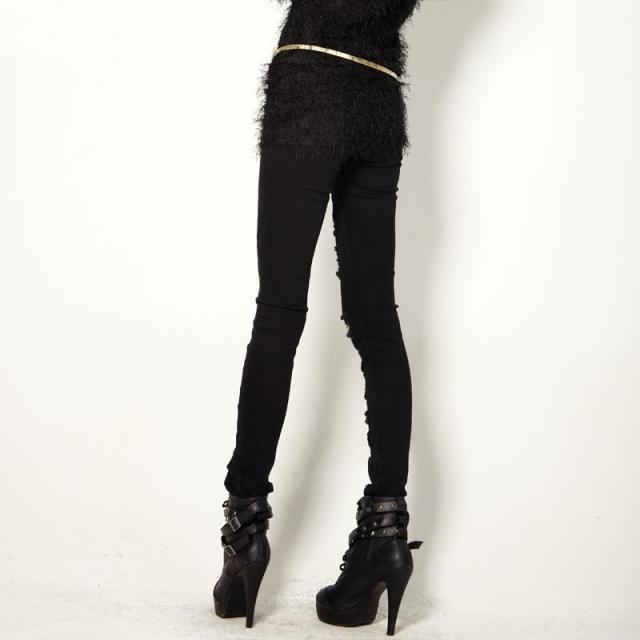trousers: (230, 48, 406, 504)
